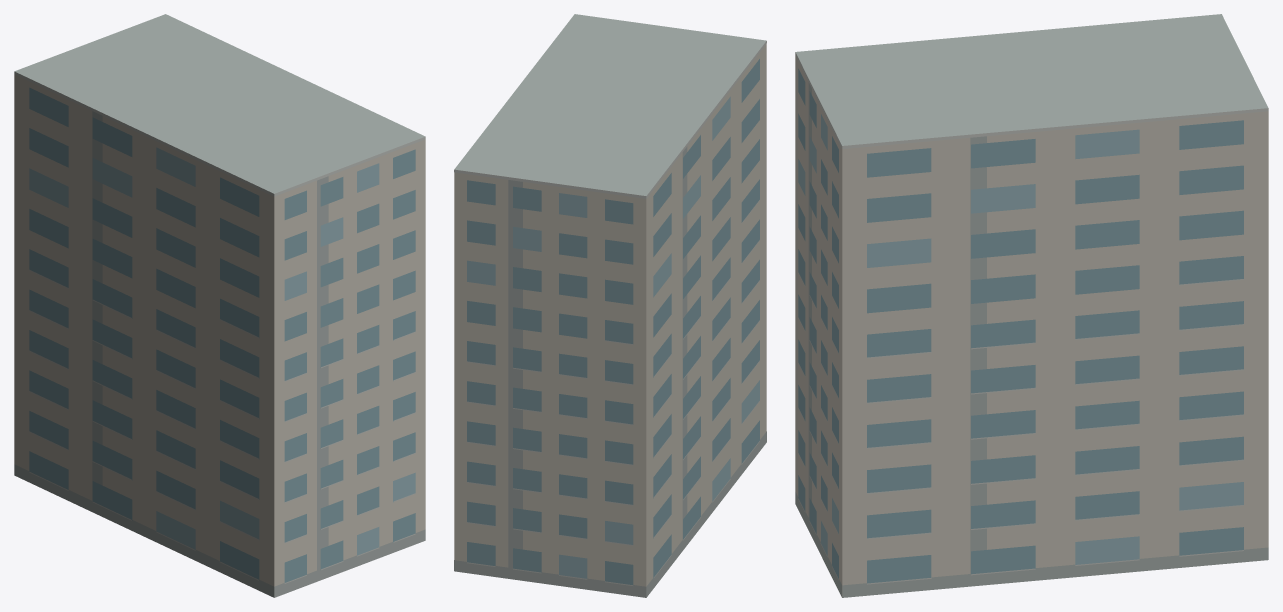
Rendered from residential-cd89b666-caf4-4013-9b89-c114c4f8ea44.glb.
3 views of the same model, side by side, from view 1: azimuth 30°, elevation 25°; view 2: azimuth 150°, elevation 25°; view 3: azimuth 270°, elevation 25° (orthographic). The views are drawn at different scales.
Parts seen in each view (by area): view 1: residential-cd89b666-caf4-4013-9b89-c114c4f8ea44.tmp; view 2: residential-cd89b666-caf4-4013-9b89-c114c4f8ea44.tmp; view 3: residential-cd89b666-caf4-4013-9b89-c114c4f8ea44.tmp.
Boxes of the visible parts, x1,y1,x2,y2 form: residential-cd89b666-caf4-4013-9b89-c114c4f8ea44.tmp: (14,14,425,597); residential-cd89b666-caf4-4013-9b89-c114c4f8ea44.tmp: (454,14,766,597); residential-cd89b666-caf4-4013-9b89-c114c4f8ea44.tmp: (795,14,1268,597).
Bounding box in the file's own units: 21.93 × 35 × 33.22.
